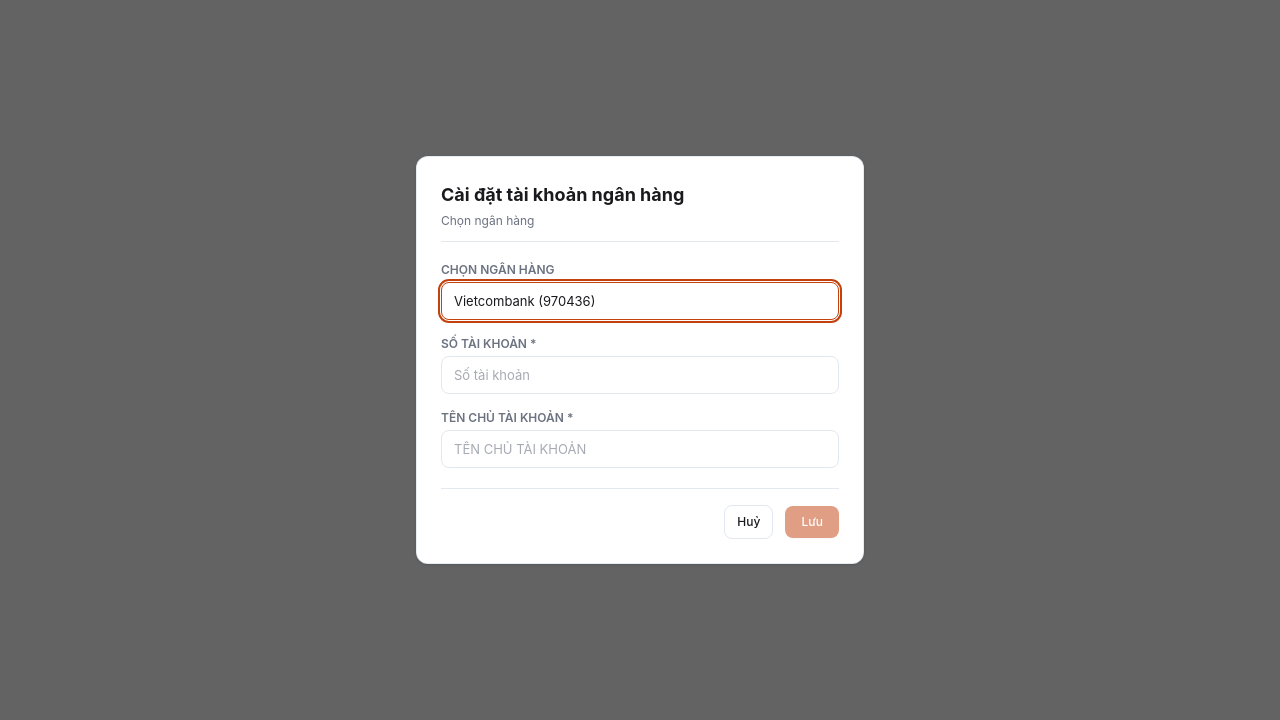
BankSettingsModal.vue › normalizes account name to unaccented uppercase
Type "Nguyễn Văn Định" into the field with placeholder "Tên chủ tài khoản" at {"x": 640, "y": 449}, box [441,430,839,468]
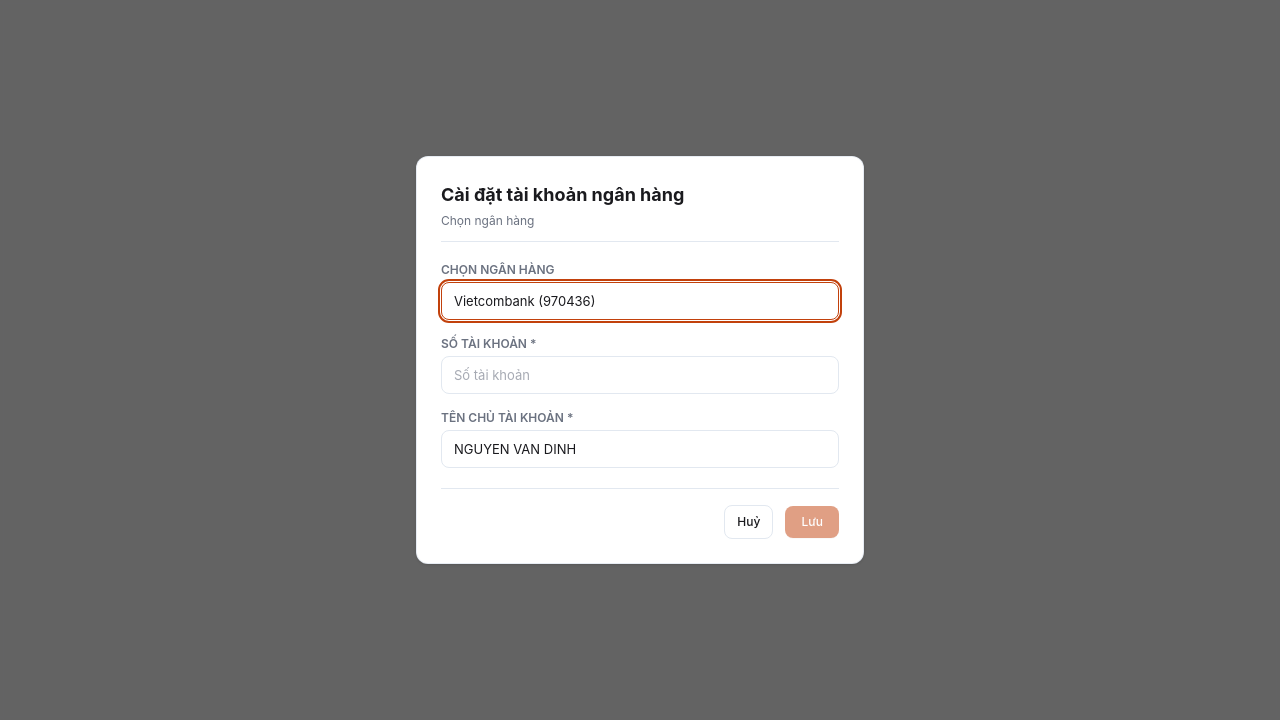
expect the 2nd field holds "NGUYEN VAN DINH": met, box [441,430,839,468]
